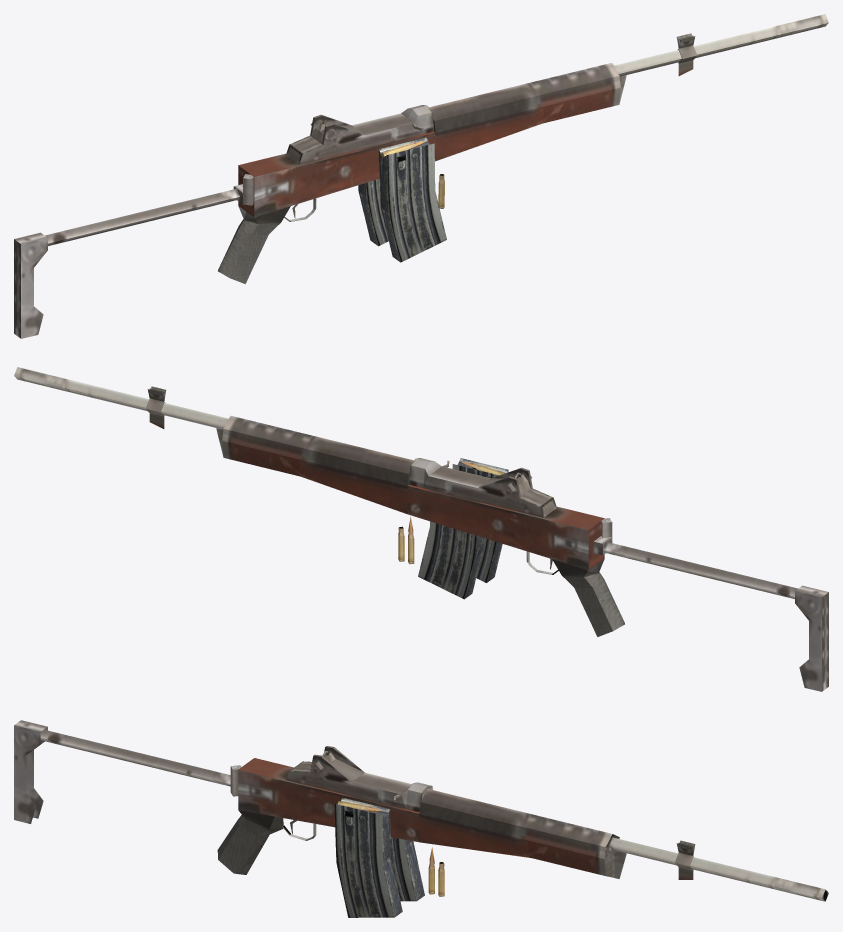
Rendered from TacticalRifle.obj.
The picture shows the model from 3 angles, top to bottom: view 1: azimuth 30°, elevation 25°; view 2: azimuth 150°, elevation 25°; view 3: azimuth 330°, elevation 25°; orthographic projection.
Visible parts, largest first — view 1: Tac_M14_Body, Tac_M14_Full_Magazene, Tac_M14_Magazene, Tac_M14_Slide; view 2: Tac_M14_Body, Tac_M14_Magazene, Tac_M14_Full_Magazene, Tac_M14_Slide; view 3: Tac_M14_Body, Tac_M14_Full_Magazene, Tac_M14_Magazene, Tac_M14_Slide.
Boxes of the visible parts, left/top/right/bottom form: Tac_M14_Body: left=14, top=14, right=828, bottom=338; Tac_M14_Full_Magazene: left=378, top=137, right=446, bottom=262; Tac_M14_Magazene: left=358, top=178, right=388, bottom=246; Tac_M14_Slide: left=352, top=113, right=423, bottom=134; Tac_M14_Body: left=14, top=367, right=828, bottom=691; Tac_M14_Magazene: left=418, top=521, right=484, bottom=599; Tac_M14_Full_Magazene: left=452, top=458, right=508, bottom=582; Tac_M14_Slide: left=429, top=460, right=490, bottom=487; Tac_M14_Body: left=14, top=720, right=828, bottom=901; Tac_M14_Full_Magazene: left=334, top=797, right=402, bottom=917; Tac_M14_Magazene: left=390, top=837, right=424, bottom=901; Tac_M14_Slide: left=352, top=772, right=411, bottom=802.
Size of the model in its own units: 11.47 by 1.95 by 0.8827.
